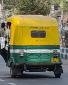Auto: (3, 13, 63, 80)
